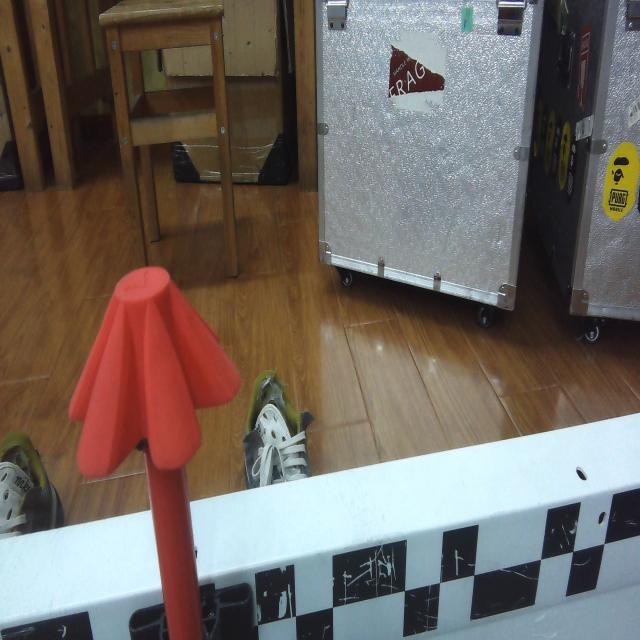zred-Stake-Head: (68, 265, 242, 479)
